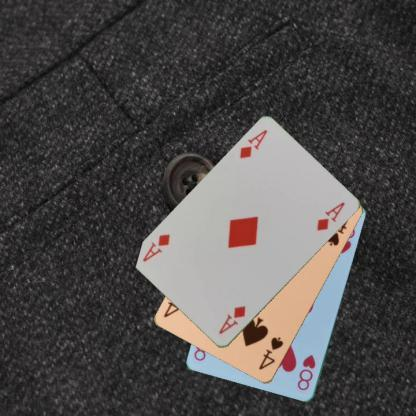4s: (256, 334, 285, 372)
8h: (295, 352, 318, 392)
Ad: (236, 127, 270, 160), (216, 304, 247, 336)
